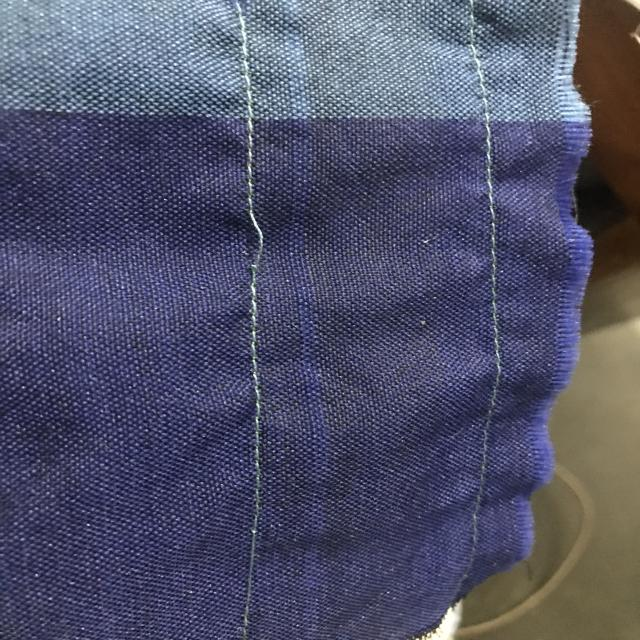skip: (217, 195, 298, 293)
